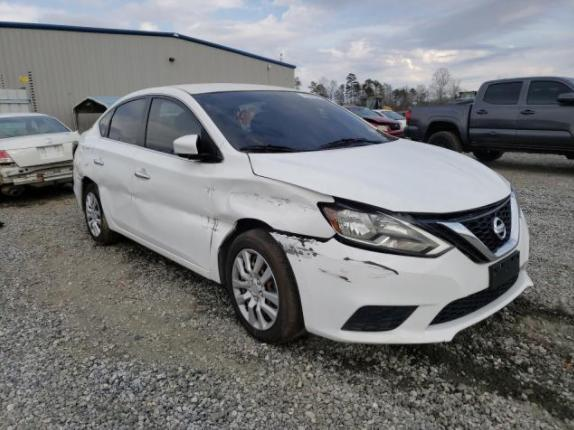Back-bumper: (73, 162, 83, 211)
Back-door: (92, 96, 149, 234)
Back-wheel: (84, 183, 122, 246)
Back-window: (109, 98, 147, 144), (100, 110, 113, 136)
Fender: (211, 138, 336, 283)
Front-bumper: (268, 206, 532, 343)
Front-door: (132, 95, 216, 271)
Front-wheel: (226, 229, 307, 346)
Front-window: (146, 98, 201, 158)
Grille: (411, 189, 518, 265)
Headlight: (319, 204, 453, 256)
Hood: (247, 139, 511, 214)
Mirror: (172, 134, 217, 163)
Quarter-panel: (74, 122, 107, 215)
Rocker-panel: (105, 214, 213, 281)
Roof: (149, 83, 315, 94)
Windshield: (191, 90, 390, 153)
